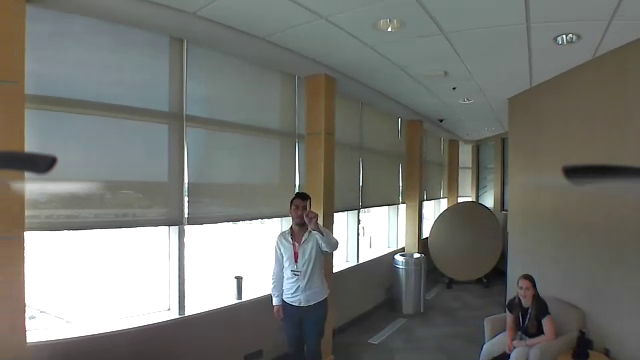up: (299, 197, 321, 227)
